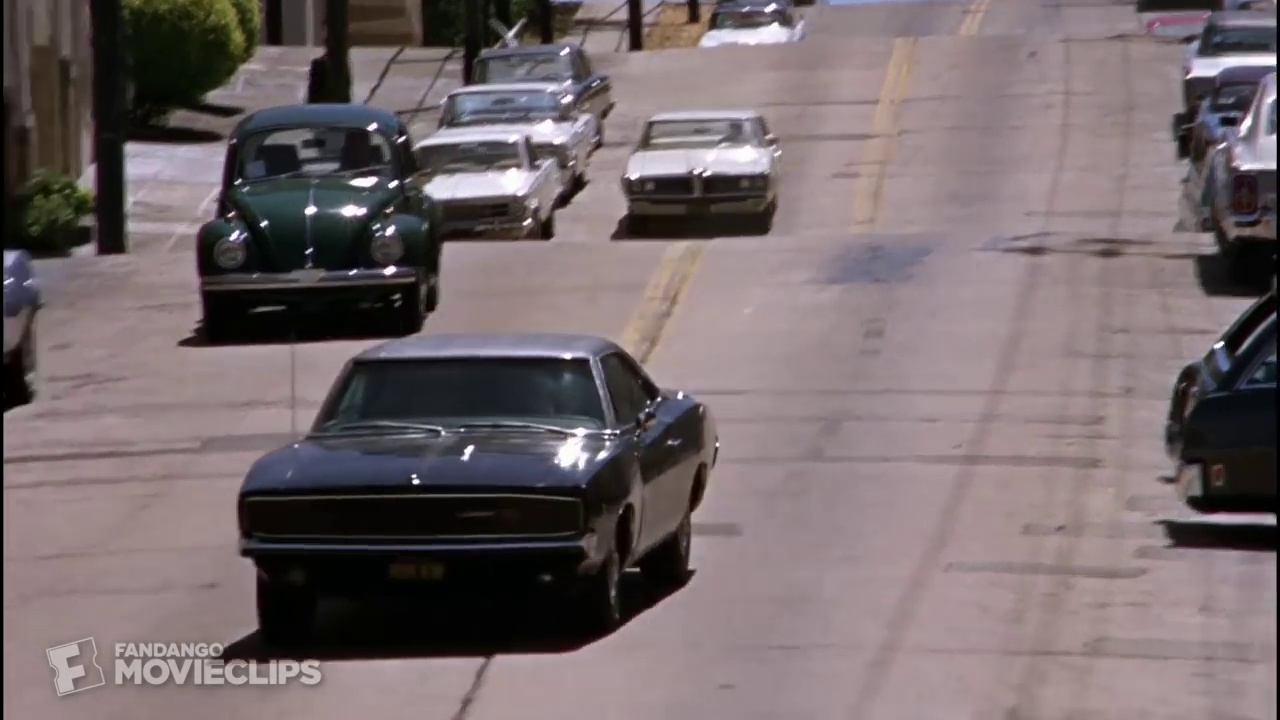car: (232, 322, 730, 656), (190, 95, 447, 344), (1156, 262, 1280, 550), (411, 76, 603, 211), (381, 122, 572, 255), (618, 102, 787, 237), (1199, 62, 1280, 288), (1, 223, 50, 417), (693, 1, 810, 53)
